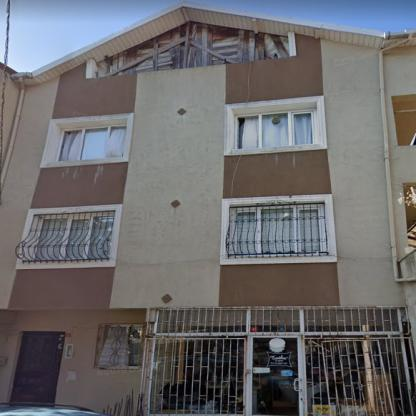door: (9, 333, 60, 407), (253, 337, 300, 415)
window: (150, 309, 408, 416), (231, 207, 326, 254), (33, 216, 113, 258), (237, 111, 313, 147), (60, 126, 127, 160), (97, 326, 141, 372)
